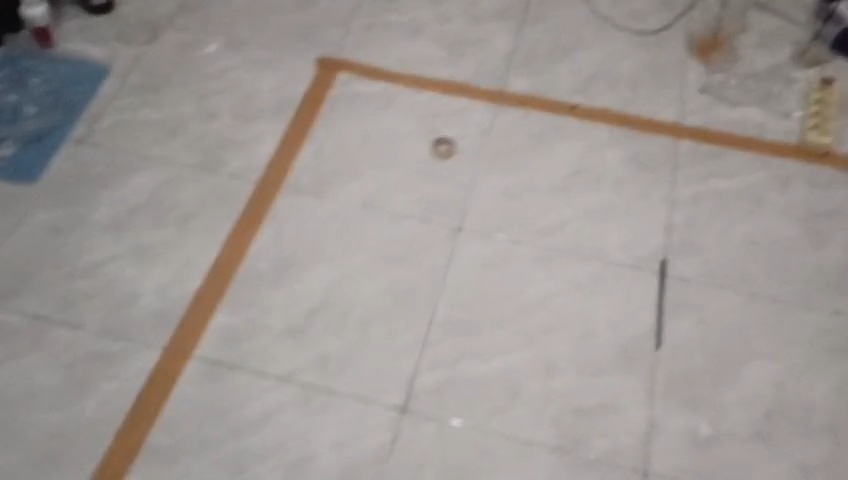floor marking: (95, 57, 847, 479)
